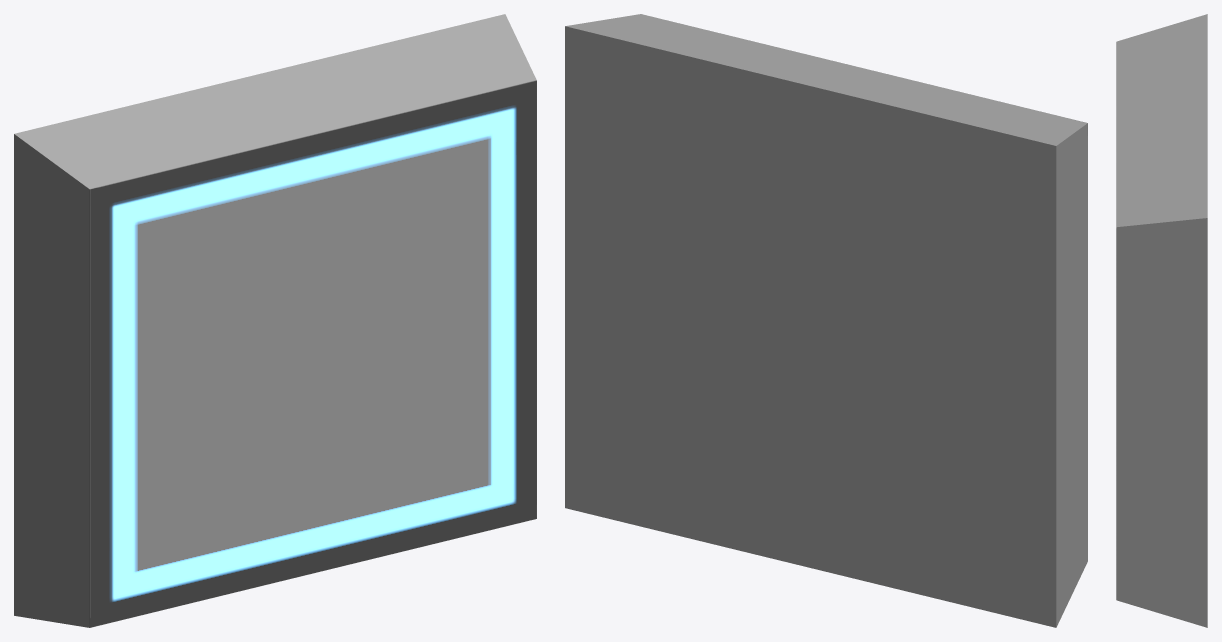
Rendered from Button.fbx.
The picture shows the model from 3 angles, left to right: view 1: azimuth 30°, elevation 25°; view 2: azimuth 150°, elevation 25°; view 3: azimuth 270°, elevation 25°; orthographic projection. The views are drawn at different scales.
Parts seen in each view (by area): view 1: pCube72; view 2: pCube72; view 3: pCube72.
Boxes of the visible parts, x1,y1,x2,y2 form: pCube72: (14, 14, 536, 627); pCube72: (565, 14, 1087, 627); pCube72: (1116, 14, 1207, 627).
Bounding box in the file's own units: 0.061 × 0.0572 × 0.0116.
Materials: 1 (1 with a texture image).
